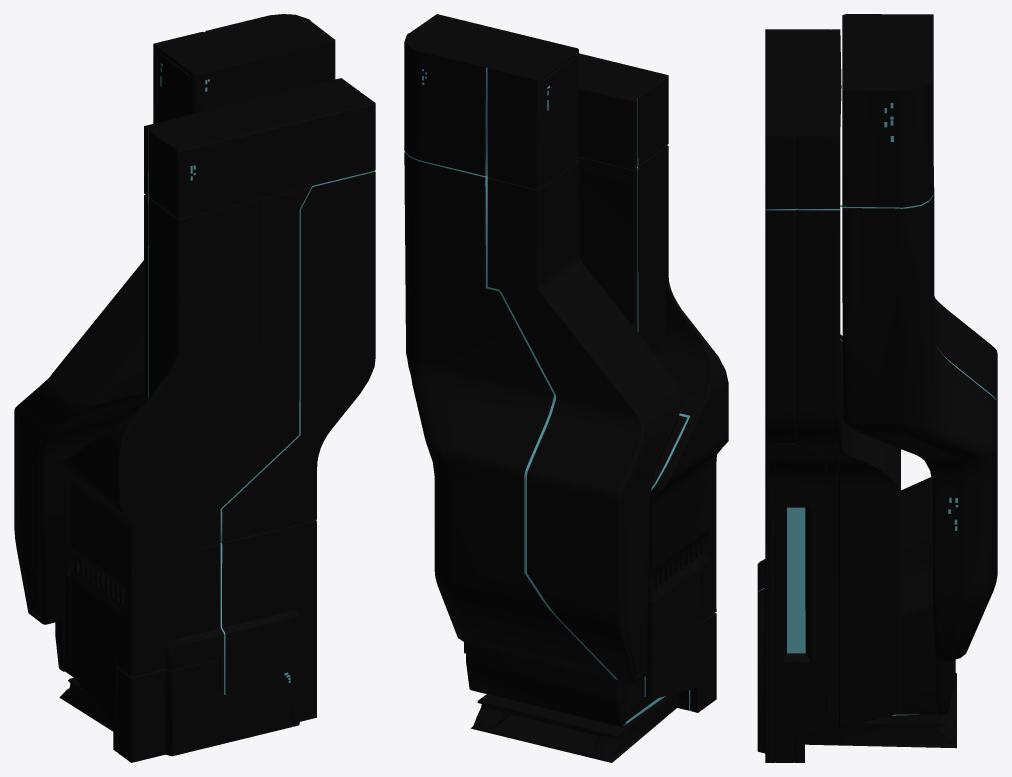
File: building4.obj
3 renders of one model, left to right at view 1: azimuth 30°, elevation 25°; view 2: azimuth 150°, elevation 25°; view 3: azimuth 270°, elevation 25°, orthographic. The views are drawn at different scales.
Visible parts, largest first — view 1: Tower_05.smd; view 2: Tower_05.smd; view 3: Tower_05.smd.
Part boxes in pixels (bbox=[...]): Tower_05.smd: bbox=[14, 14, 375, 762]; Tower_05.smd: bbox=[404, 14, 728, 762]; Tower_05.smd: bbox=[757, 14, 997, 762].
Size of the model in its own units: 38.58 by 92.27 by 28.58.
